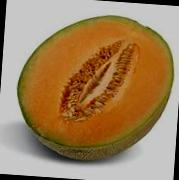Melon Ripe: (12, 8, 178, 168)
